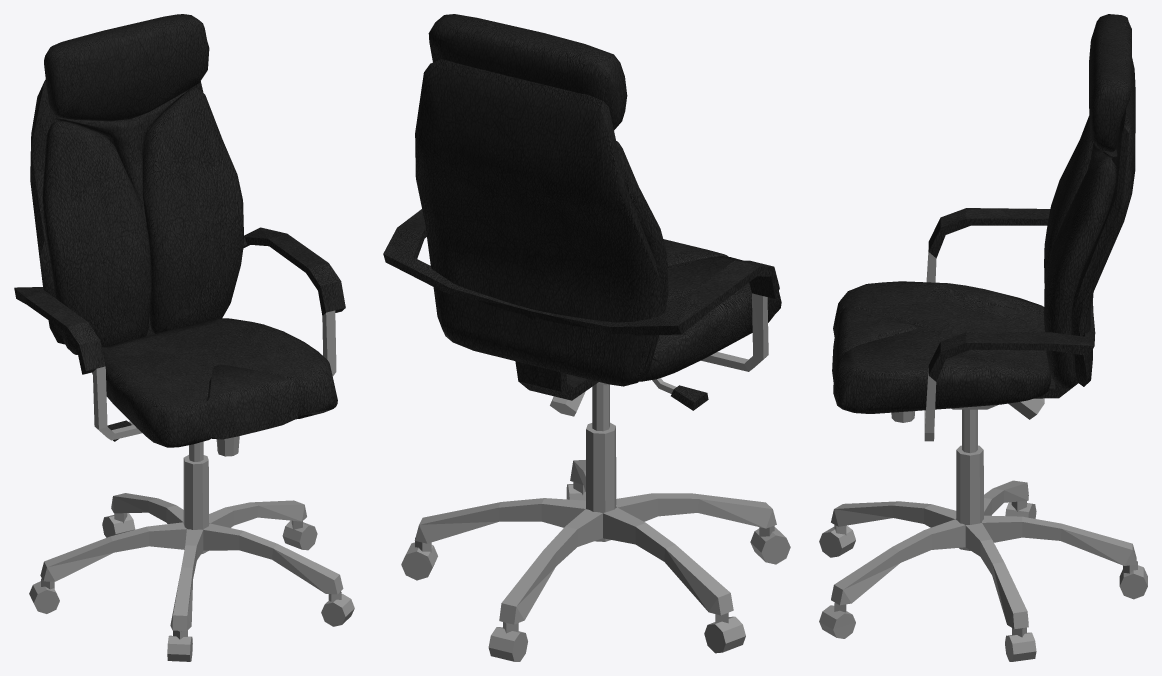
Rendered from Chair 1.FBX.
3 renders of one model, left to right at view 1: azimuth 30°, elevation 25°; view 2: azimuth 150°, elevation 25°; view 3: azimuth 270°, elevation 25°, orthographic. The views are drawn at different scales.
Parts seen in each view (by area): view 1: chair 1; view 2: chair 1; view 3: chair 1.
Boxes of the visible parts, x1,y1,x2,y2 form: chair 1: [14, 14, 354, 661]; chair 1: [383, 14, 790, 661]; chair 1: [819, 14, 1147, 661].
Size of the model in its own units: 63.67 by 111 by 60.54.
Materials: 3 (1 with a texture image).
